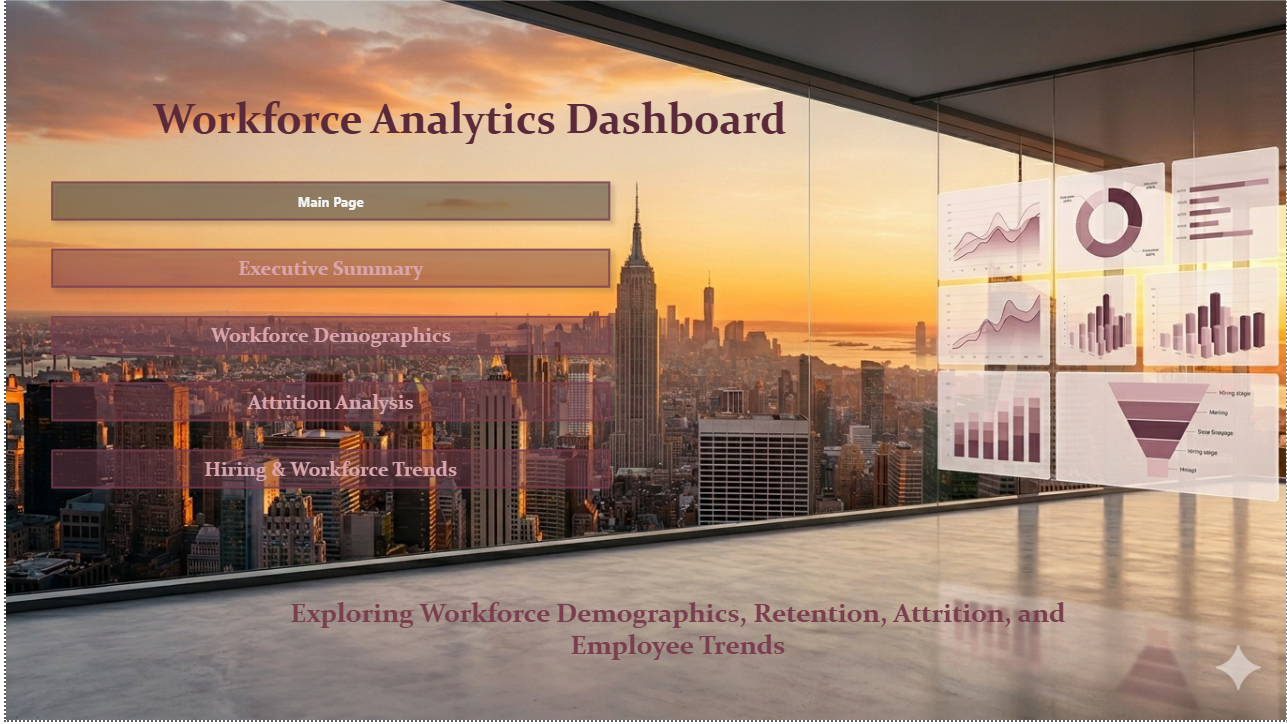

The dashboard page shown, as its layout file describes it:
{"tool":"powerbi","page":{"name":"Main Page ","canvas":[1280,720],"ordinal":0},"visuals":[{"type":"image","box":[0,0,1280,720],"z":0},{"type":"textbox","box":[108.8,87.5,720,63.8],"z":1000},{"type":"textbox","box":[235,591.2,873.8,77.5],"z":2000},{"type":"pageNavigator","box":[36,172.5,577.5,325],"z":3000}]}

Visuals, with their boxes in screenshot pixels (x1, y1, x2, y2), scaled from the page's 1280x720 canvas onto the 1287x724 screenshot:
image: rect(0, 0, 1286, 723)
textbox: rect(109, 88, 833, 152)
textbox: rect(236, 594, 1115, 672)
pageNavigator: rect(36, 173, 617, 500)
